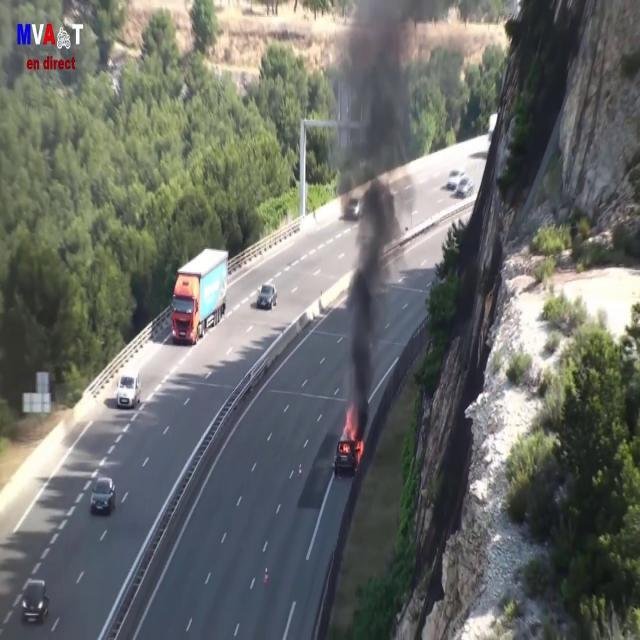Fire: (339, 402, 363, 464)
Smoke: (332, 3, 420, 404)
